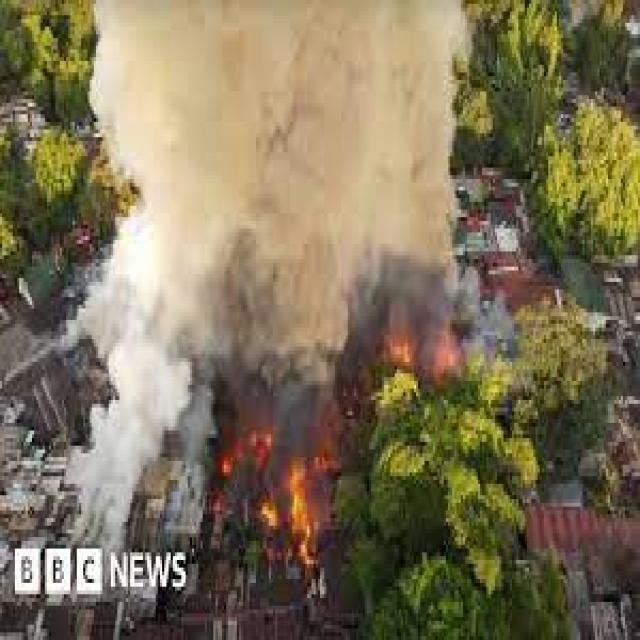Smoke: (94, 0, 481, 371)
